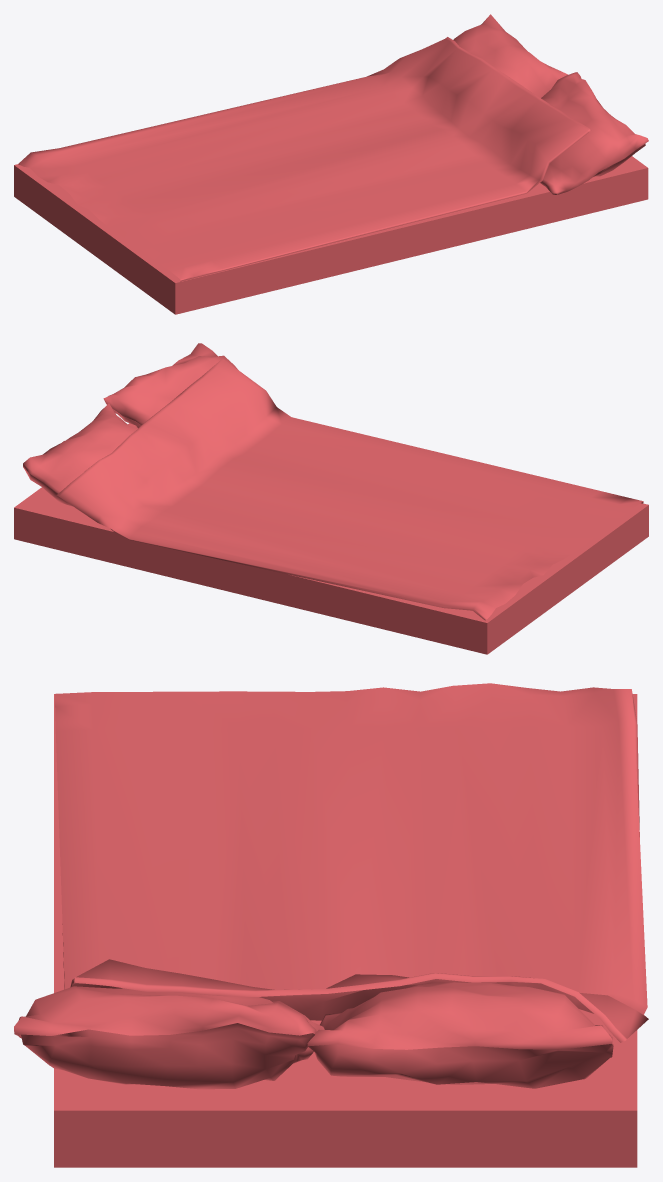
Rendered from Mattress.fbx.
The picture shows the model from 3 angles, top to bottom: view 1: azimuth 30°, elevation 25°; view 2: azimuth 150°, elevation 25°; view 3: azimuth 270°, elevation 25°; orthographic projection. The views are drawn at different scales.
Parts seen in each view (by area): view 1: Bedpart-01_low.002; view 2: Bedpart-01_low.002; view 3: Bedpart-01_low.002.
Part boxes in pixels (<box>): Bedpart-01_low.002: <box>14,14,648,314</box>; Bedpart-01_low.002: <box>14,343,648,654</box>; Bedpart-01_low.002: <box>14,683,648,1167</box>.
Bounding box in the file's own units: 269 × 45.79 × 173.
